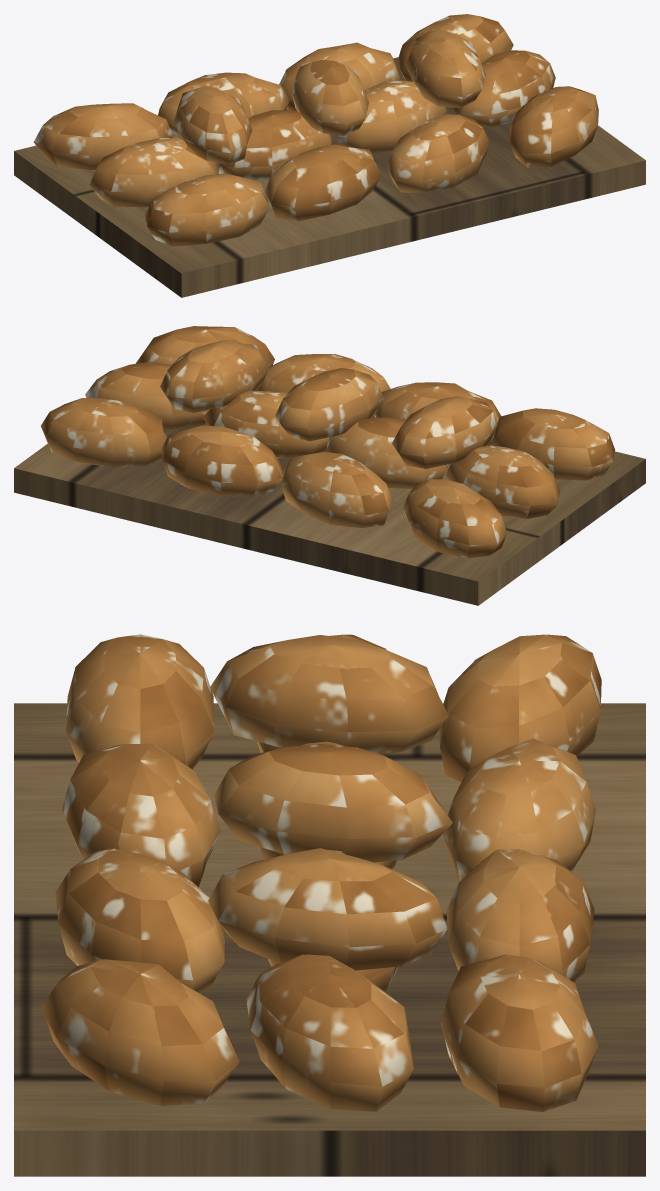
The model's file is bread_tray.gltf.
The picture shows the model from 3 angles, top to bottom: view 1: azimuth 30°, elevation 25°; view 2: azimuth 150°, elevation 25°; view 3: azimuth 270°, elevation 25°; orthographic projection. The views are drawn at different scales.
Parts seen in each view (by area): view 1: bread_tray_mesh; view 2: bread_tray_mesh; view 3: bread_tray_mesh.
Boxes of the visible parts, left/top/right/bottom form: bread_tray_mesh: left=14, top=14, right=645, bottom=297; bread_tray_mesh: left=14, top=326, right=645, bottom=605; bread_tray_mesh: left=14, top=634, right=645, bottom=1176.
Size of what is drawn, in the model's own units: 0.8024 by 0.184 by 0.5.
Materials: 2 (2 with a texture image).
